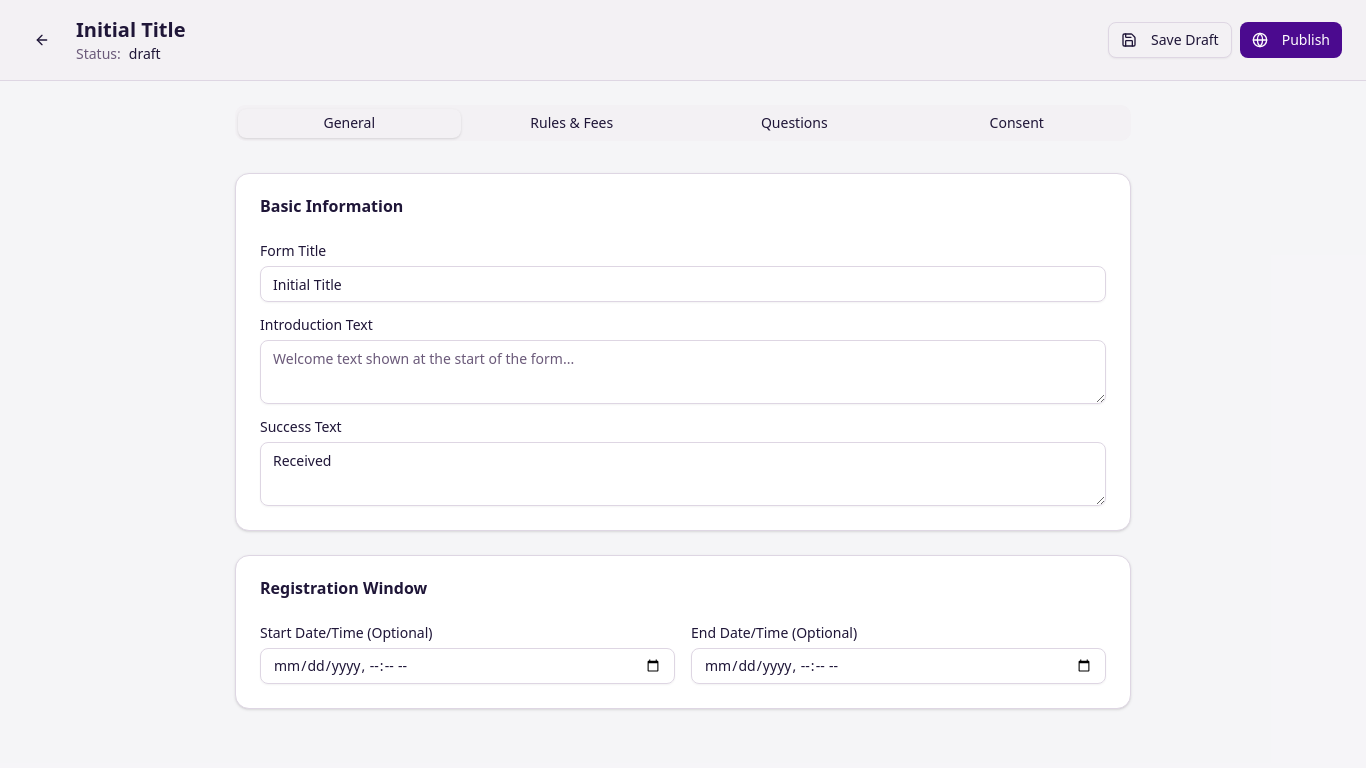
Test: RegistrationFormBuilderPage - Editor State › retains the later edit as visible and dirty after an in-flight save and refetch complete
Replace the text in the field showing "Initial Title" below "Form Title" with "Edited Title". click: (683, 284)
box: [260,266,1106,302]
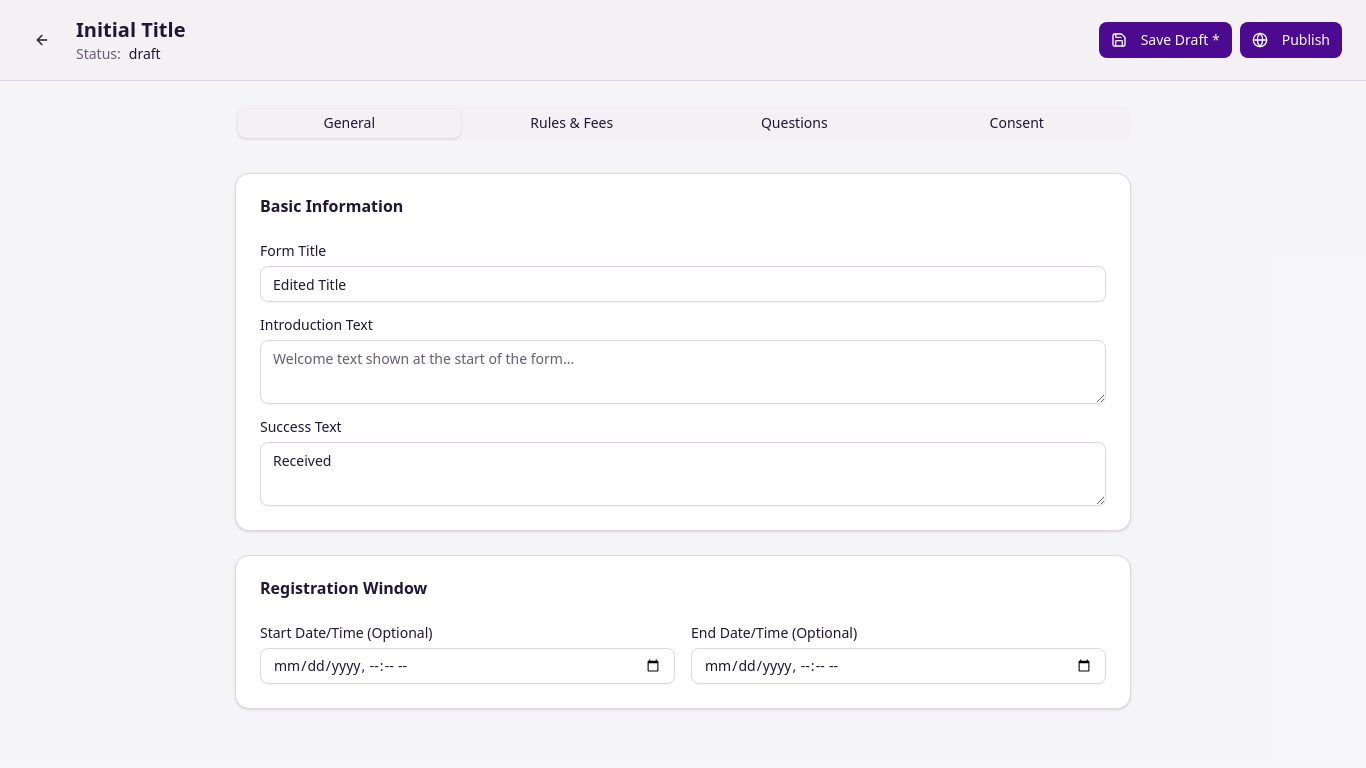
Check: the button "Save Draft *" is shown
Click the button "Save Draft *". click: (1165, 40)
box: [1099,22,1232,58]
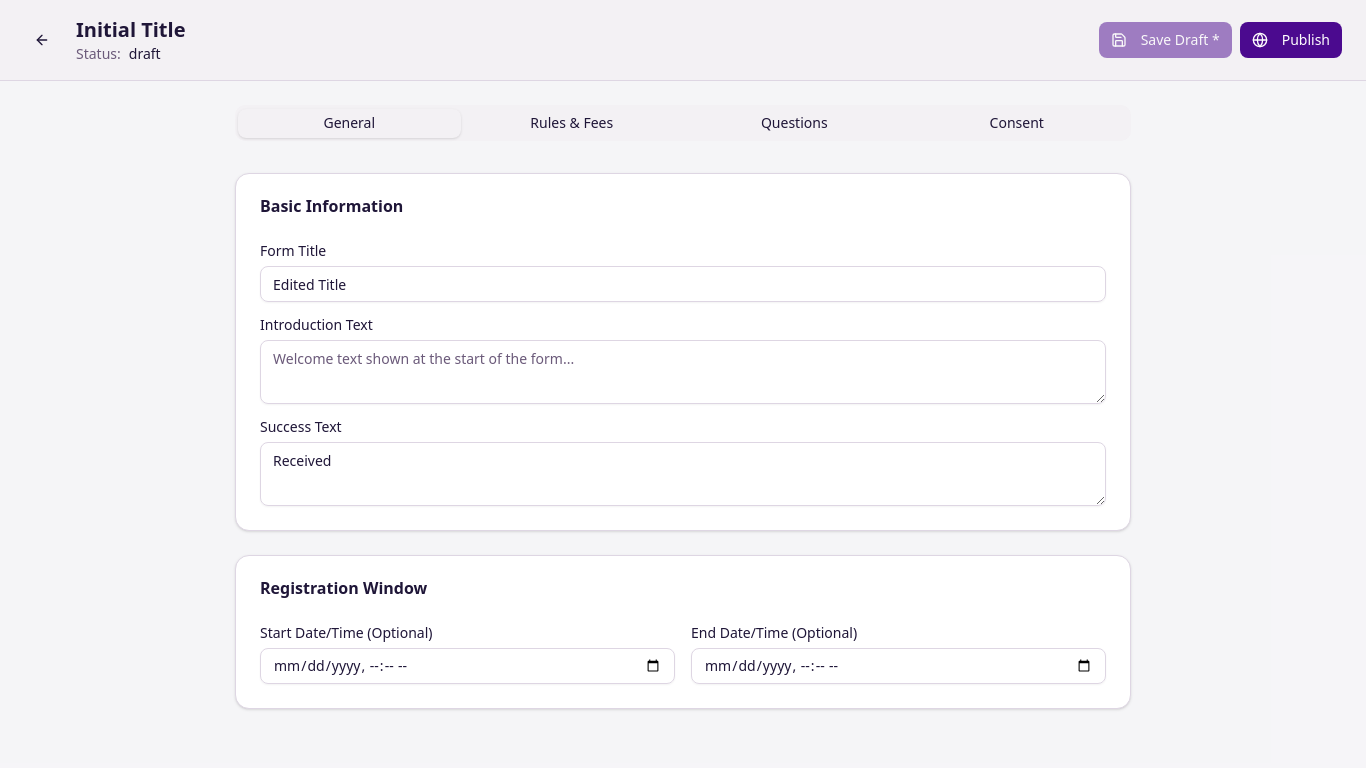
# Edit again while the save request is still in flight.
Replace the text in the field showing "Initial Title" below "Form Title" with "Edited Again". click: (683, 284)
box: [260,266,1106,302]
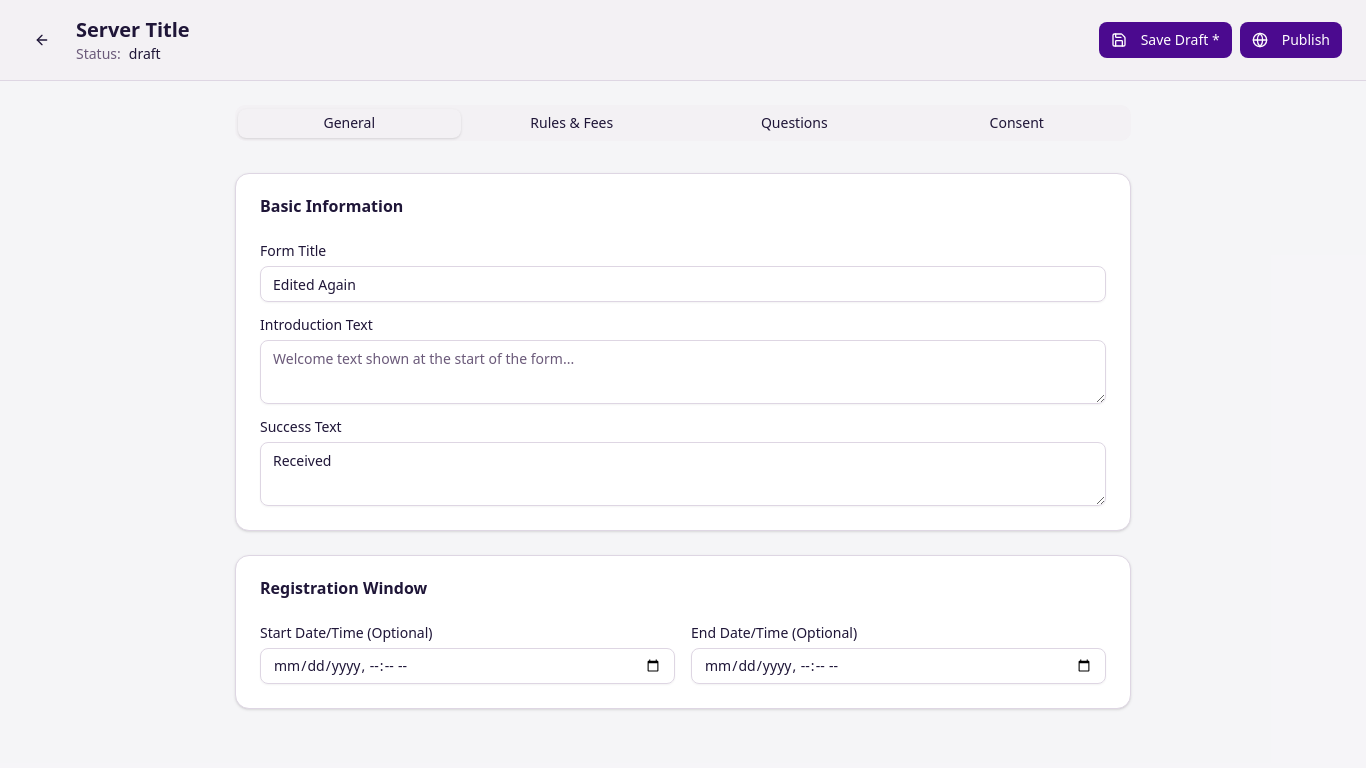
Check: the button "Save Draft *" is shown, box [1099,22,1232,58]
Check: the heading "Server Title" is shown, box [76,16,190,44]
